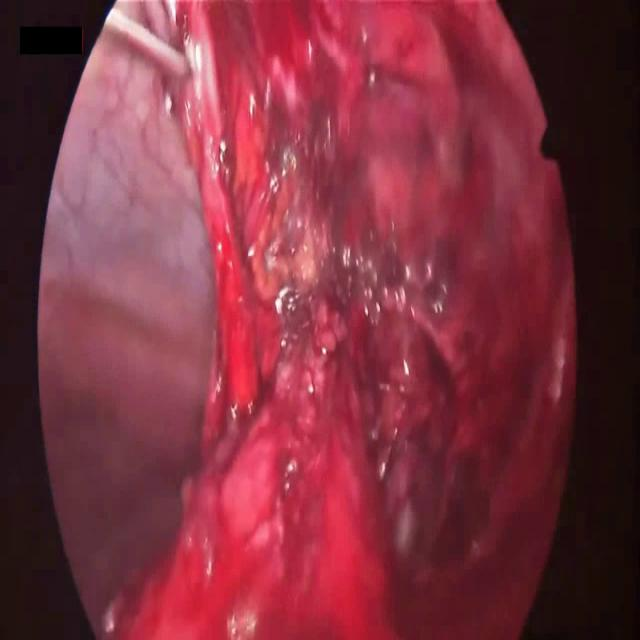surgical-area: (34, 0, 576, 639)
